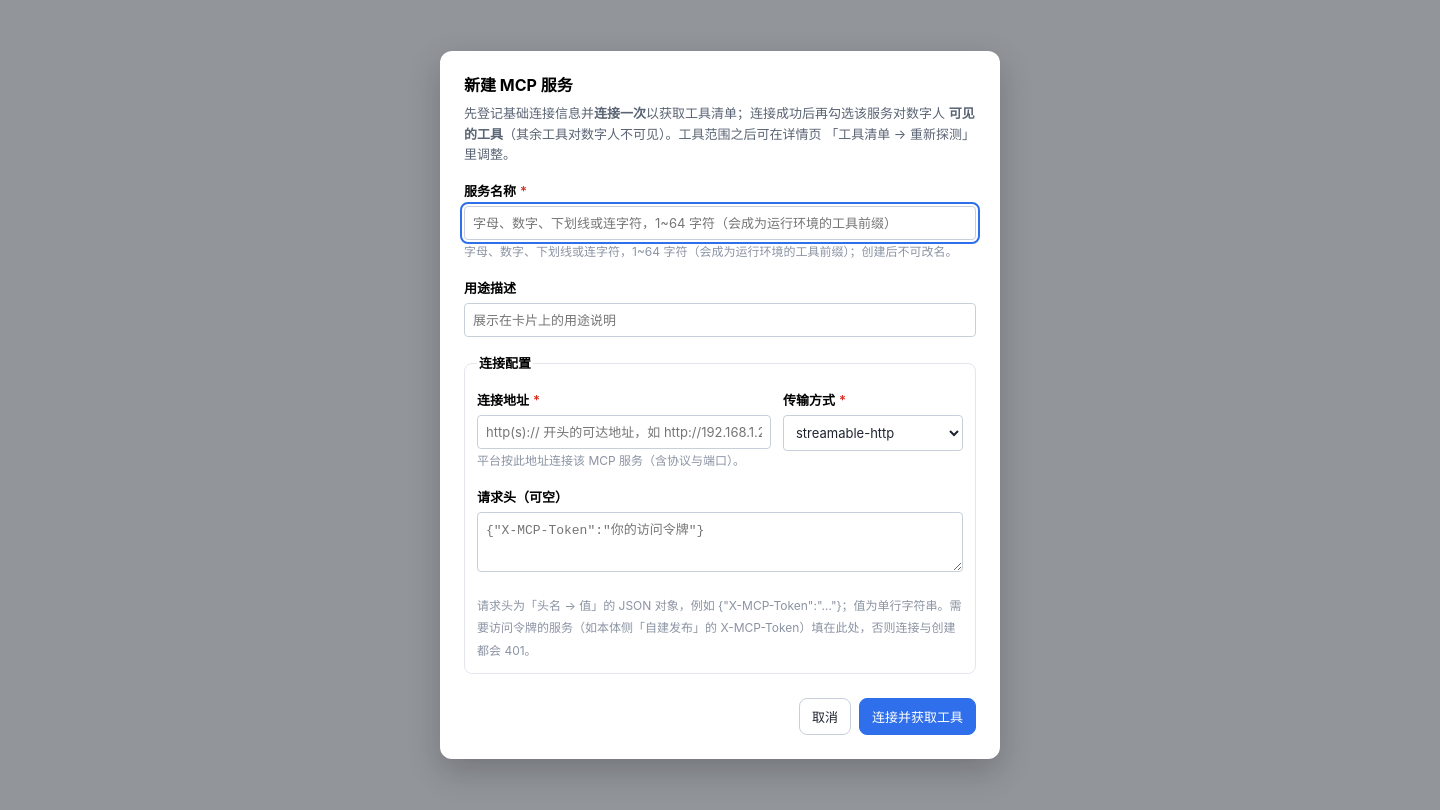
it: McpCreateDialog —— 第一步：校验（与详情页表单同一实现） › 切到 stdio：显示启动命令、隐藏连接地址；启动命令为空则报错
Select "stdio" in the dropdown with id "mcp-create-transport" at (873, 433), box [783,415,963,451]
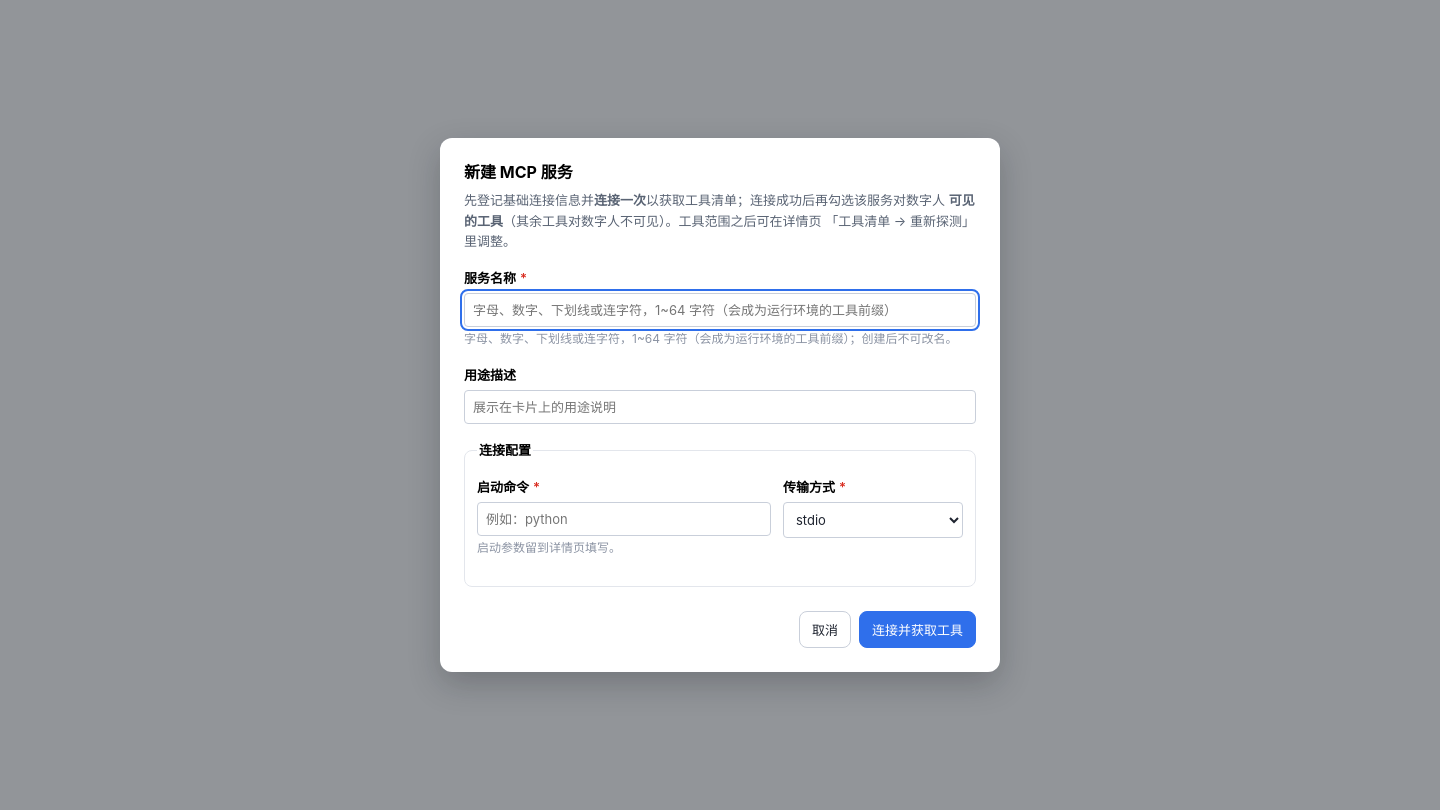
Result: the field with id "mcp-create-command" is shown at [477,502,771,536]
Type "srv" into the field with id "mcp-create-name" at (720, 310), box [464,293,976,327]
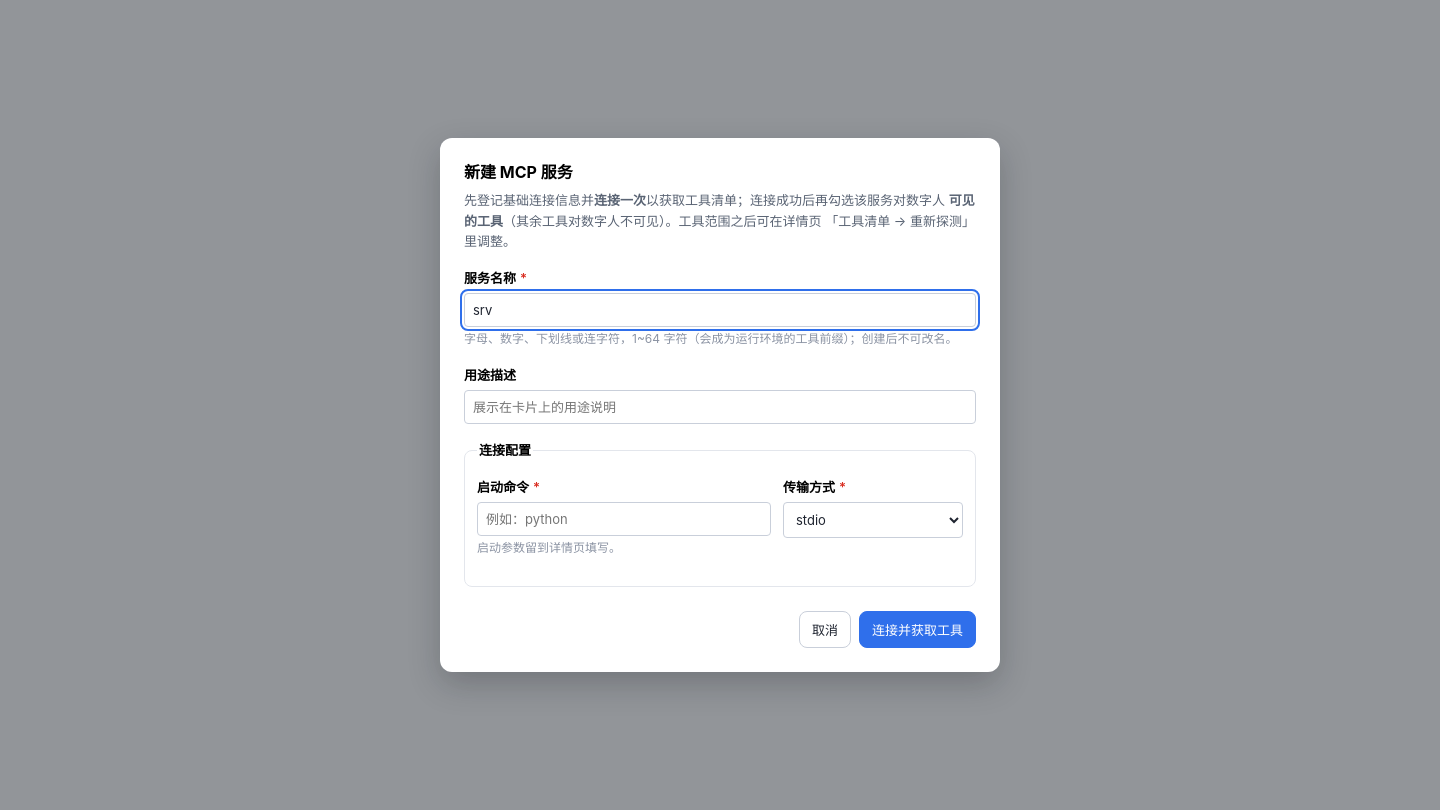
Click the button with test id "confirm" at (918, 630), box [859,611,976,648]
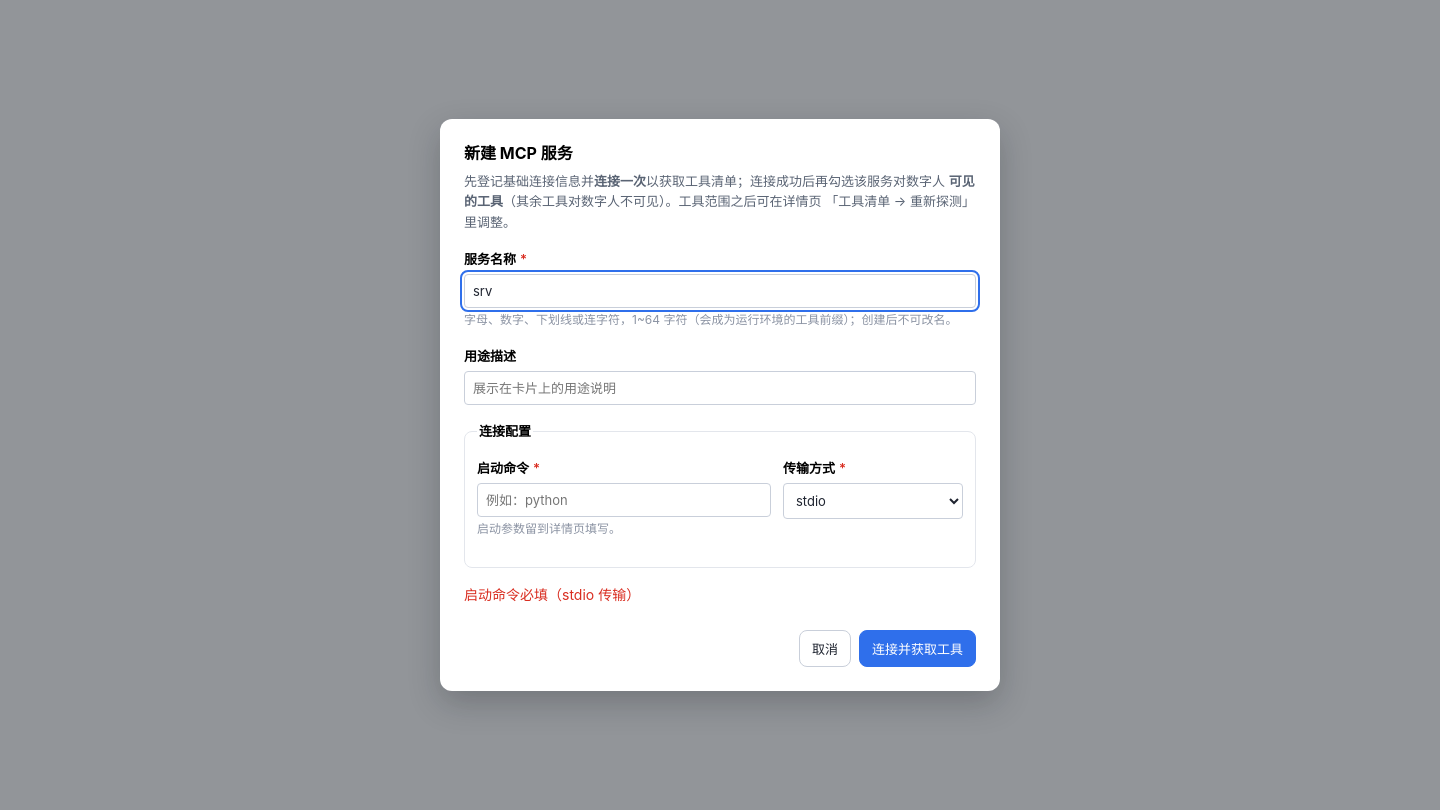
Result: the text "启动命令必填" is shown at [464,586,640,603]
